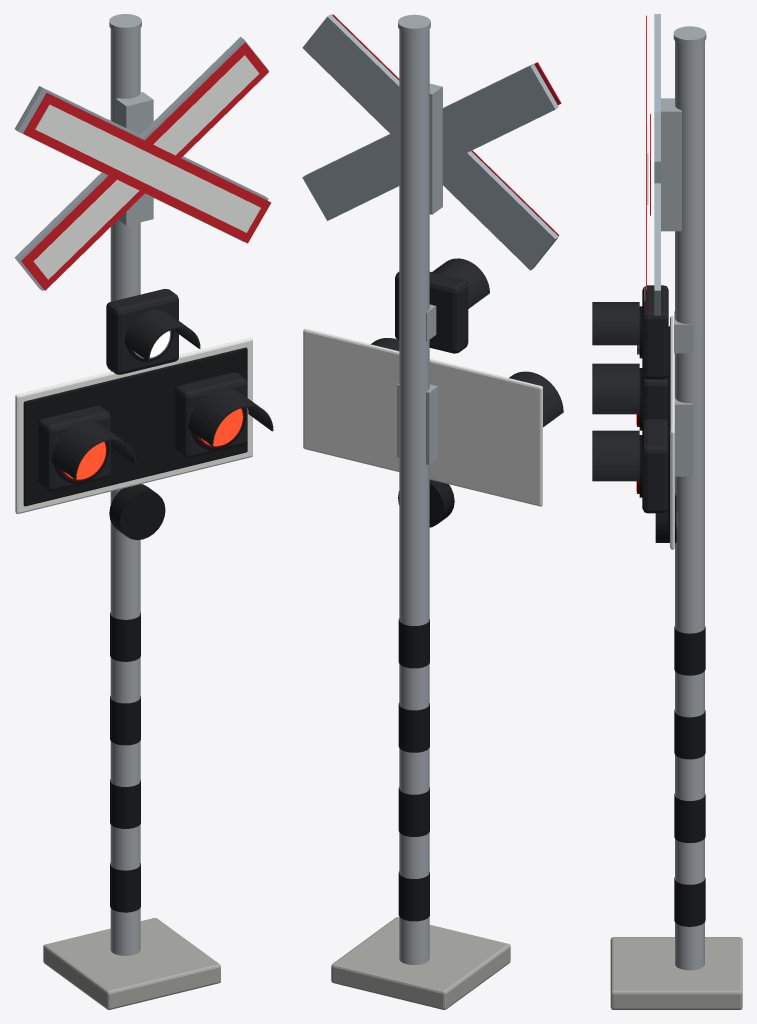
The model's file is TK_RailwaySignal.glb.
3 views of the same model, side by side, from view 1: azimuth 30°, elevation 25°; view 2: azimuth 150°, elevation 25°; view 3: azimuth 270°, elevation 25° (orthographic).
Visible parts, largest first — view 1: Screen, Mast, Foundation.001, Sign131_Face_Field_1, Sign131_Face_Field_0, Sign131_Face_Border_1, Screen_Edge, Sign131_Face_Border_0, Module_White, Module_Red_R, Module_Red_L, Bell (+12 smaller); view 2: Screen_Edge, Mast, Sign131_Plate_Back, Sign131_Plate_Back.001, Foundation.001, Module_White, Sign131_Bracket, MastBand.001, MastBand, MastBand.002, MastBand.003, Visor_White (+3 smaller); view 3: Mast, Foundation.001, Sign131_Bracket, Module_Red_R, Visor_Red_L, Visor_Red_R, Module_White, Visor_White, Sign131_Plate_Back.001, MastBand.003, MastBand, MastBand.002 (+10 smaller).
Boxes of the visible parts, <box> form: Screen: <box>23,347,247,506</box>; Mast: <box>110,28,140,955</box>; Foundation.001: <box>43,918,220,1009</box>; Sign131_Face_Field_1: <box>35,104,260,232</box>; Sign131_Face_Field_0: <box>33,55,259,279</box>; Sign131_Face_Border_1: <box>23,93,271,243</box>; Screen_Edge: <box>15,337,252,513</box>; Sign131_Face_Border_0: <box>21,42,268,290</box>; Module_White: <box>106,289,178,374</box>; Module_Red_R: <box>174,372,247,458</box>; Module_Red_L: <box>38,405,110,491</box>; Bell: <box>109,484,165,539</box>; Screen_Edge: <box>303,328,542,506</box>; Mast: <box>399,29,429,964</box>; Sign131_Plate_Back: <box>302,14,558,270</box>; Sign131_Plate_Back.001: <box>302,63,558,220</box>; Foundation.001: <box>331,917,510,1009</box>; Module_White: <box>395,272,468,353</box>; Sign131_Bracket: <box>429,83,442,214</box>; MastBand.001: <box>398,787,429,836</box>; MastBand: <box>398,871,429,921</box>; MastBand.002: <box>398,703,429,752</box>; MastBand.003: <box>398,618,429,668</box>; Visor_White: <box>432,258,489,308</box>; Mast: <box>675,41,704,970</box>; Foundation.001: <box>610,937,742,1009</box>; Sign131_Bracket: <box>661,98,681,231</box>; Module_Red_R: <box>642,419,668,513</box>; Visor_Red_L: <box>592,363,639,414</box>; Visor_Red_R: <box>592,430,639,481</box>; Module_White: <box>642,285,668,379</box>; Visor_White: <box>592,302,639,345</box>; Sign131_Plate_Back.001: <box>654,14,660,315</box>; MastBand.003: <box>674,626,705,675</box>; MastBand: <box>674,877,705,926</box>; MastBand.002: <box>674,709,705,759</box>.
Size of the model in its own units: 1.1 by 3.97 by 0.57.
